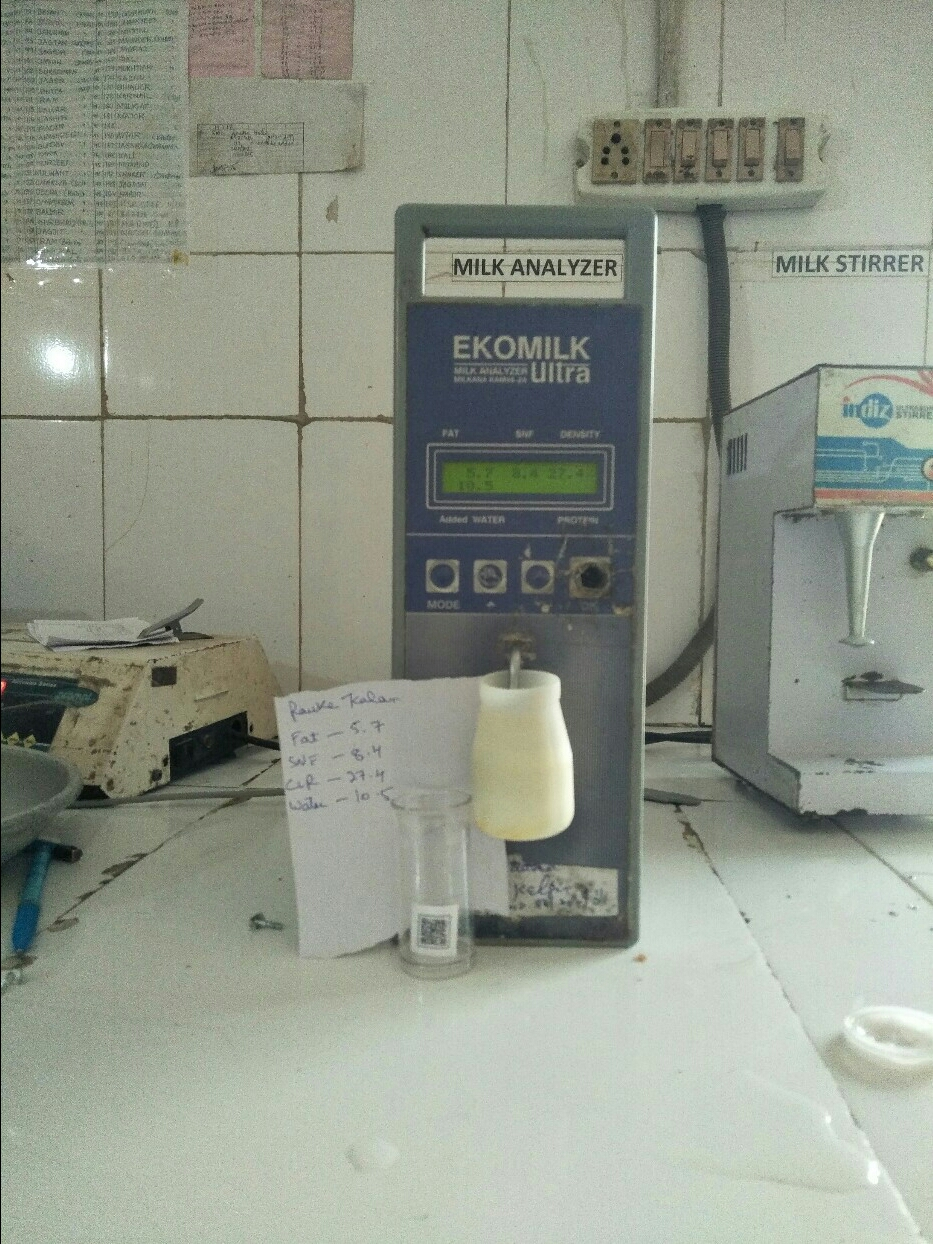lcd: (439, 450, 608, 506)
qr: (403, 906, 480, 963)
